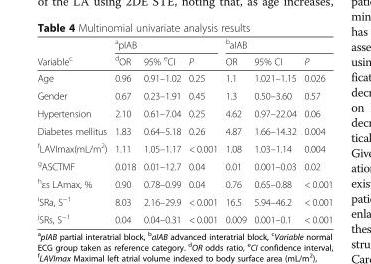table: (36, 37, 332, 224)
table column: (36, 37, 110, 224), (249, 37, 299, 224), (139, 37, 184, 224), (184, 37, 220, 224), (299, 37, 332, 224), (110, 37, 139, 224), (220, 37, 249, 224)
table column header: (36, 37, 332, 69)
table row: (36, 51, 332, 69), (36, 86, 332, 104), (36, 138, 332, 156), (36, 156, 332, 174), (36, 191, 332, 209), (36, 69, 332, 86), (36, 104, 332, 121), (36, 121, 332, 138), (36, 174, 332, 191), (36, 209, 332, 224), (36, 37, 332, 51)
table spanning cell: (36, 37, 110, 69), (220, 37, 332, 51), (110, 37, 220, 51)
